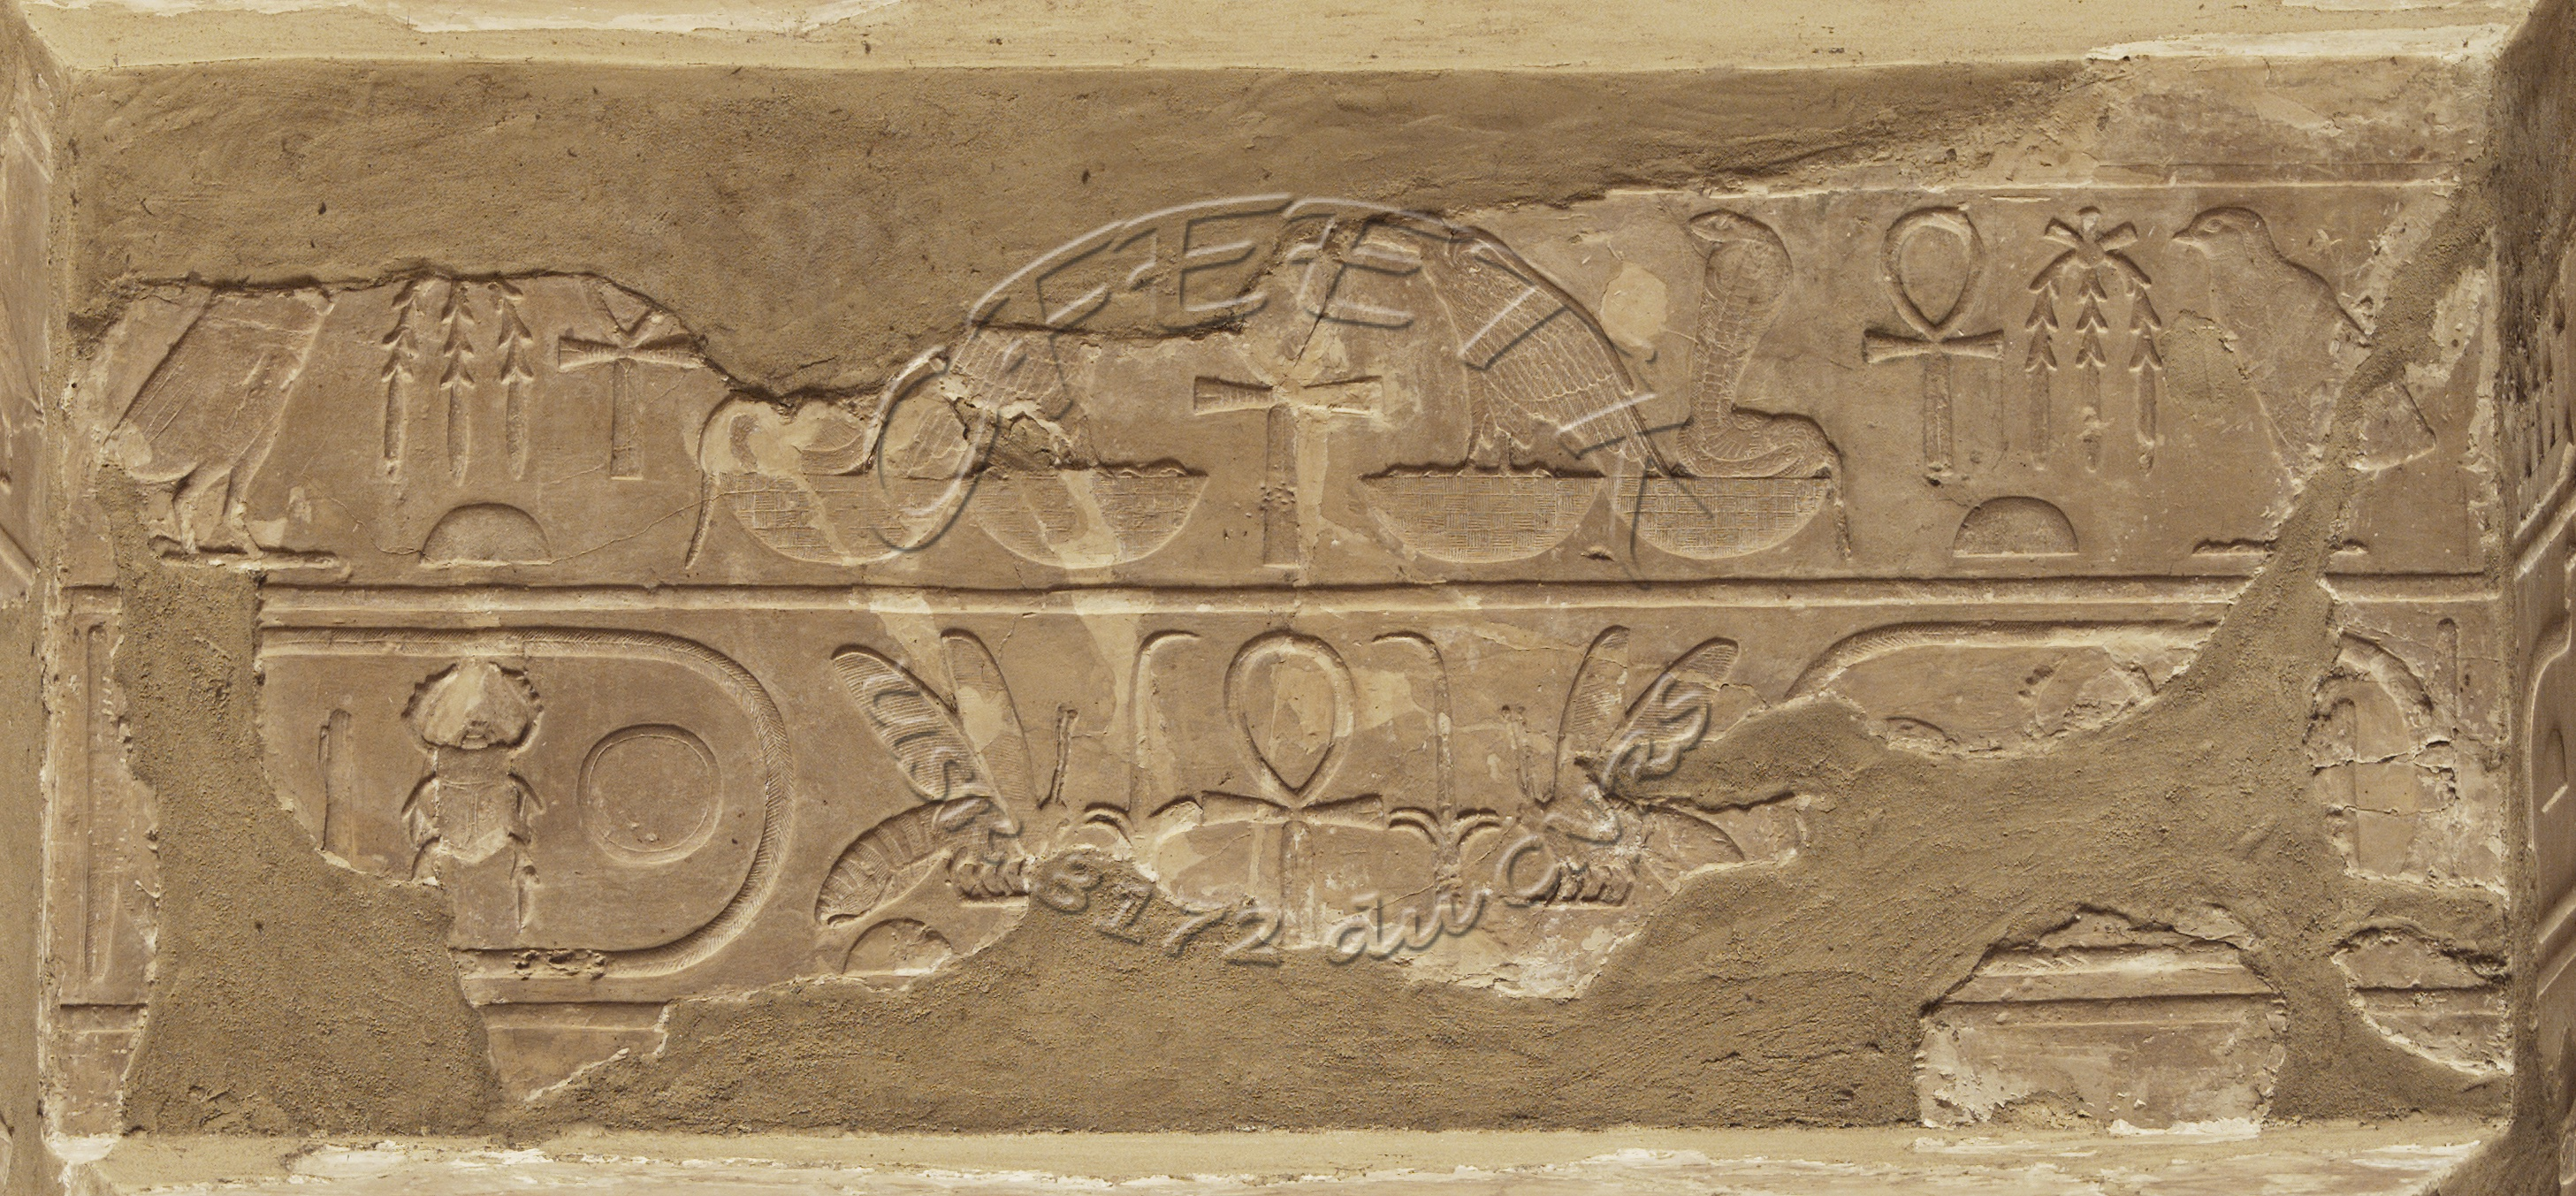G43: (72, 223, 389, 598), (2137, 192, 2454, 565)
